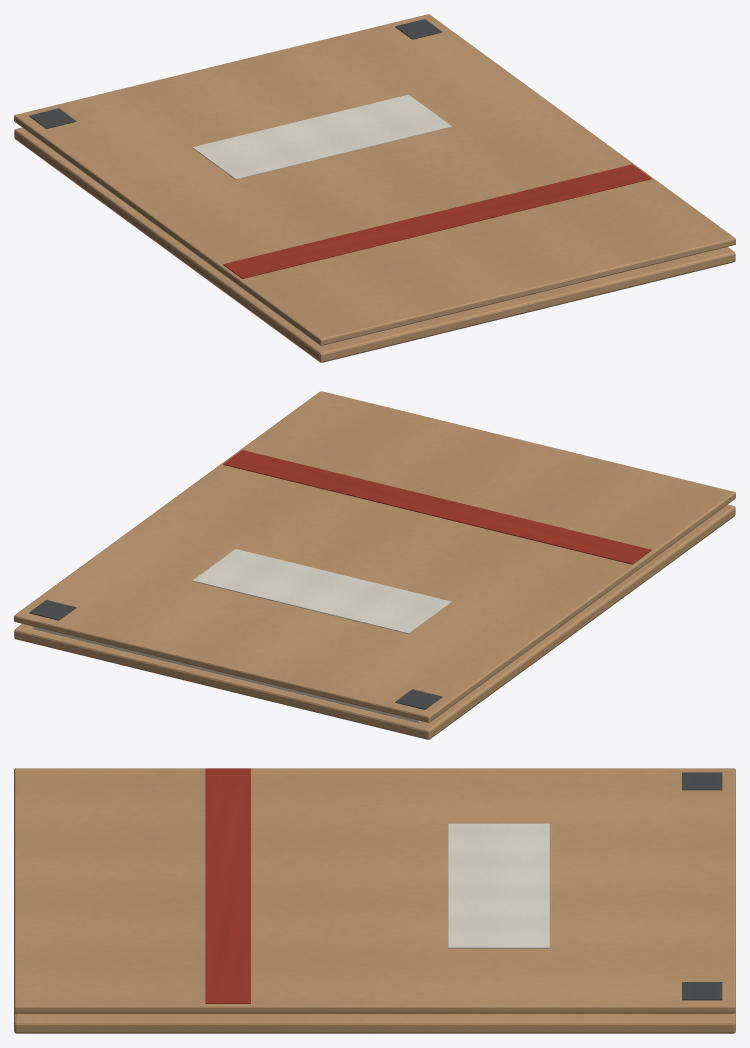
File: mission_folder_closed.glb
3 views of the same model, one above another, from view 1: azimuth 30°, elevation 25°; view 2: azimuth 150°, elevation 25°; view 3: azimuth 270°, elevation 25° (orthographic). The views are drawn at different scales.
Visible parts, largest first — view 1: folder_front, folder_back, label_area, red_band, metal_corner, metal_corner.001; view 2: folder_front, folder_back, label_area, red_band, paper_block.001, metal_corner.001, metal_corner; view 3: folder_front, folder_back, label_area, red_band, metal_corner, metal_corner.001.
Boxes of the visible parts, x1,y1,x2,y2 form: folder_front: (14,14,735,345); folder_back: (14,127,735,362); label_area: (192,94,451,179); red_band: (223,164,651,278); metal_corner: (29,108,76,128); metal_corner.001: (395,19,442,39); folder_front: (14,391,735,722); folder_back: (14,504,735,739); label_area: (192,549,451,633); red_band: (223,450,651,564); paper_block.001: (33,626,421,722); metal_corner.001: (29,600,76,620); metal_corner: (395,689,442,709); folder_front: (14,768,735,1013); folder_back: (14,1012,735,1033); label_area: (448,823,549,948); red_band: (205,768,250,1003); metal_corner: (682,772,722,790); metal_corner.001: (682,982,722,1000).
Size of the model in its own units: 0.25 by 0.0147 by 0.32.
Materials: 4 (4 with a texture image).
